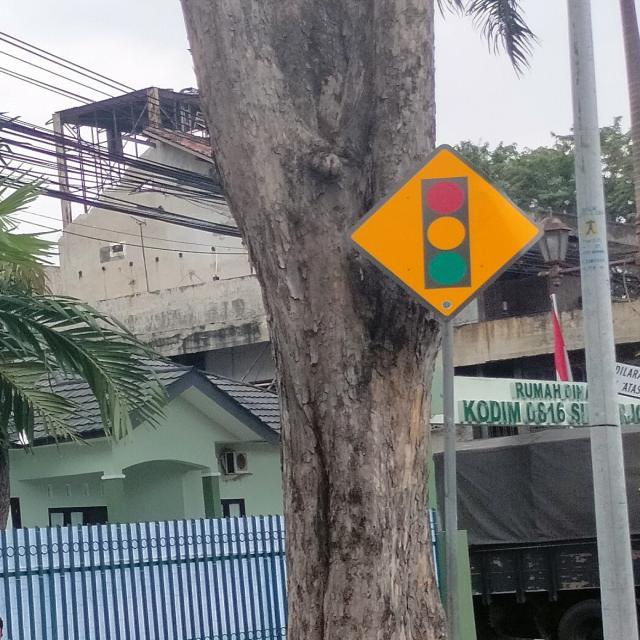Lampu Lalu Lintas: (347, 144, 542, 320)
